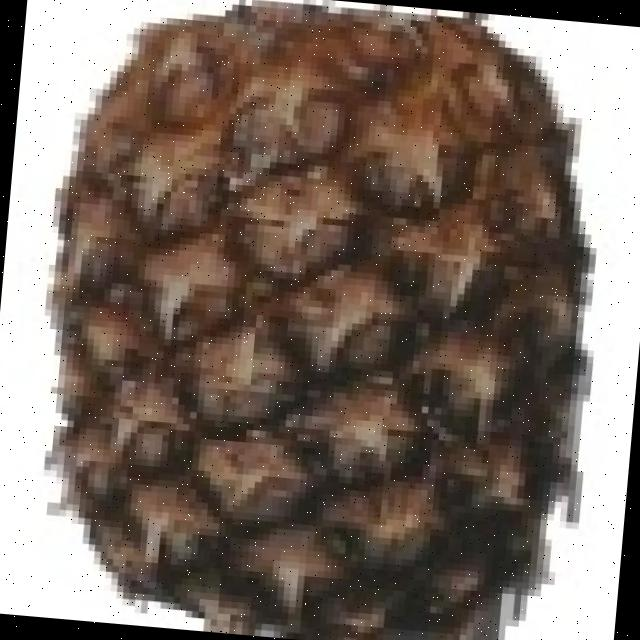pineapple: (46, 0, 578, 640)
